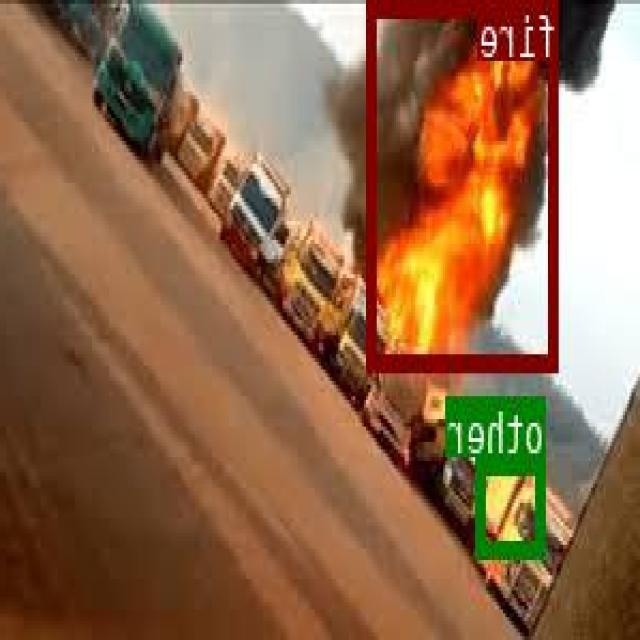fire: (369, 0, 560, 366)
other: (478, 456, 547, 554)
